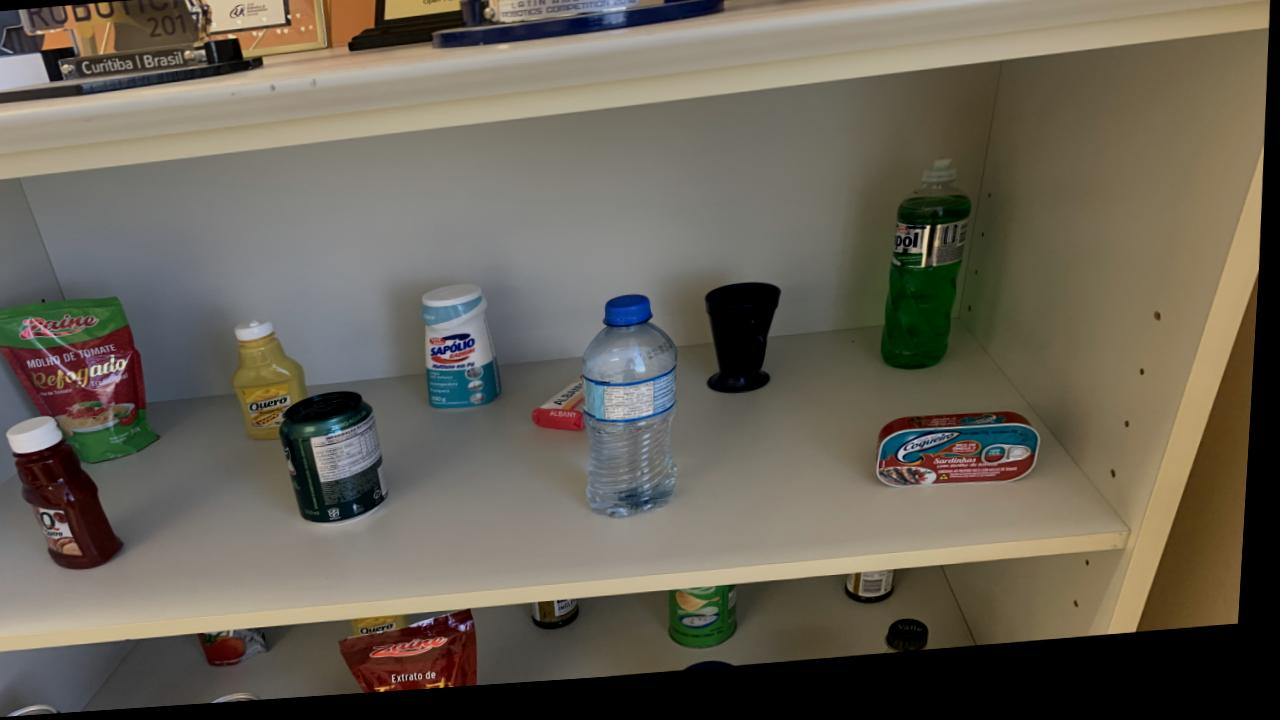Cleaner-Cleanup_Items: (424, 290, 507, 416)
Detergent-Cleanup_Items: (887, 173, 974, 383)
English_Sauce-Pantry_Items: (852, 582, 903, 616), (540, 608, 587, 638)
Guarana_Can-Drinks: (285, 396, 394, 529)
Ketchup-Pantry_Items: (13, 417, 130, 571)
Mustard-Pantry_Items: (237, 323, 312, 444), (360, 621, 417, 642)
Pringles-Snacks: (676, 595, 745, 659)
Soap-Cleanup_Items: (538, 385, 590, 440)
Soda-Drinks: (893, 631, 938, 666)
Tea-Drinks: (15, 705, 69, 717)
Tomato_Sauce-Pantry_Items: (0, 298, 163, 464), (347, 617, 486, 699), (207, 633, 277, 670)
Tonic-Drinks: (218, 696, 271, 707)
Tuna_Can-Pantry_Items: (881, 426, 1047, 501)
Water_Bottle-Drinks: (587, 303, 684, 527)
